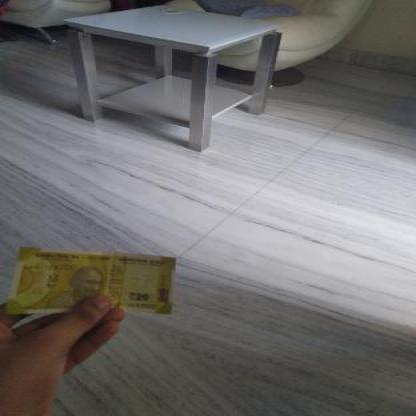New20Front: (5, 245, 180, 319)
